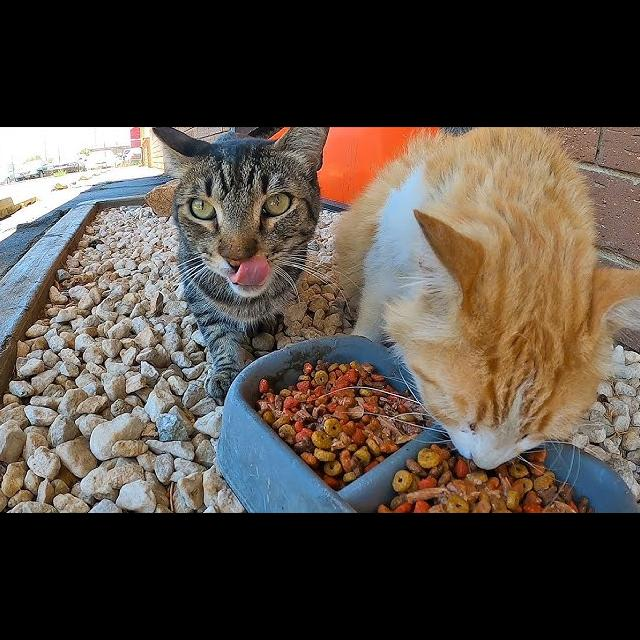animals: (152, 127, 328, 295)
